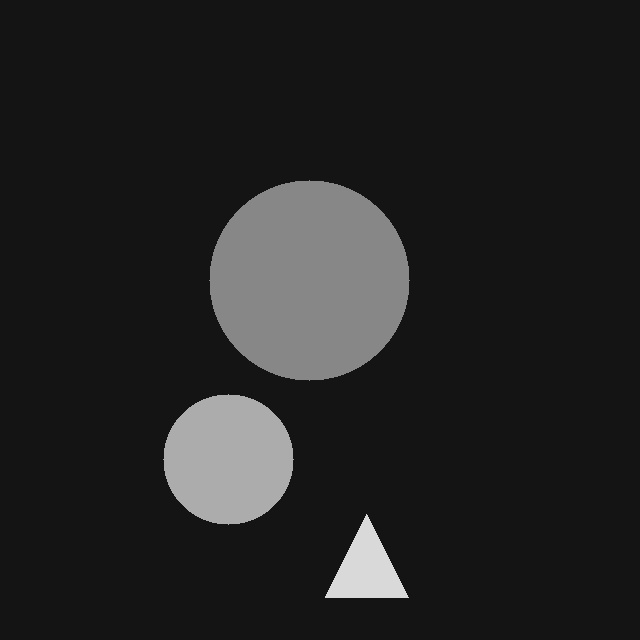circle: (209, 180, 409, 380), (163, 394, 293, 524)
triangle: (325, 514, 408, 597)
